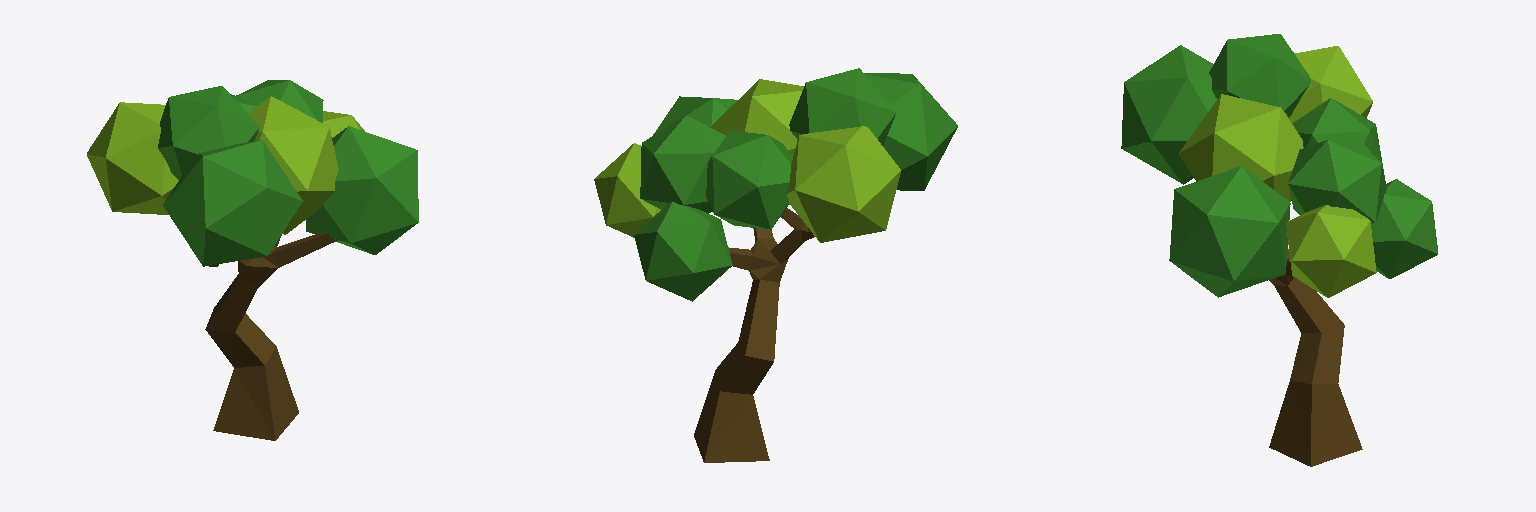
The picture shows the model from 3 angles: view 1: azimuth 30°, elevation 25°; view 2: azimuth 150°, elevation 25°; view 3: azimuth 270°, elevation 25°; orthographic projection.
Parts seen in each view (by area): view 1: Cube; view 2: Cube; view 3: Cube.
Boxes of the visible parts, <box> form: Cube: <box>87,80,418,440</box>; Cube: <box>594,68,957,462</box>; Cube: <box>1121,34,1437,466</box>.
Bounding box in the file's own units: 6.25 × 7.76 × 6.05.
1 materials, 1 textured.